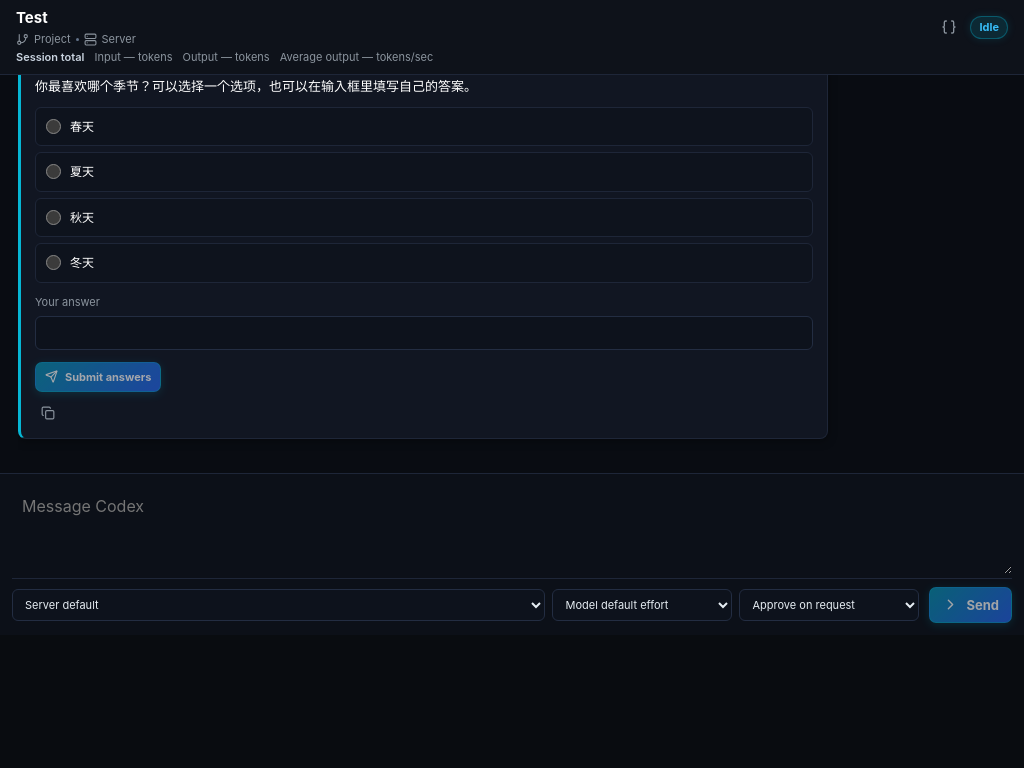
Test: retains a custom answer after a failure and starts a new turn when the session is idle
The image size is (1024, 768).
(page scrolled)
Click the radio button labelled "春天" at (54, 126), box [46, 119, 61, 134]
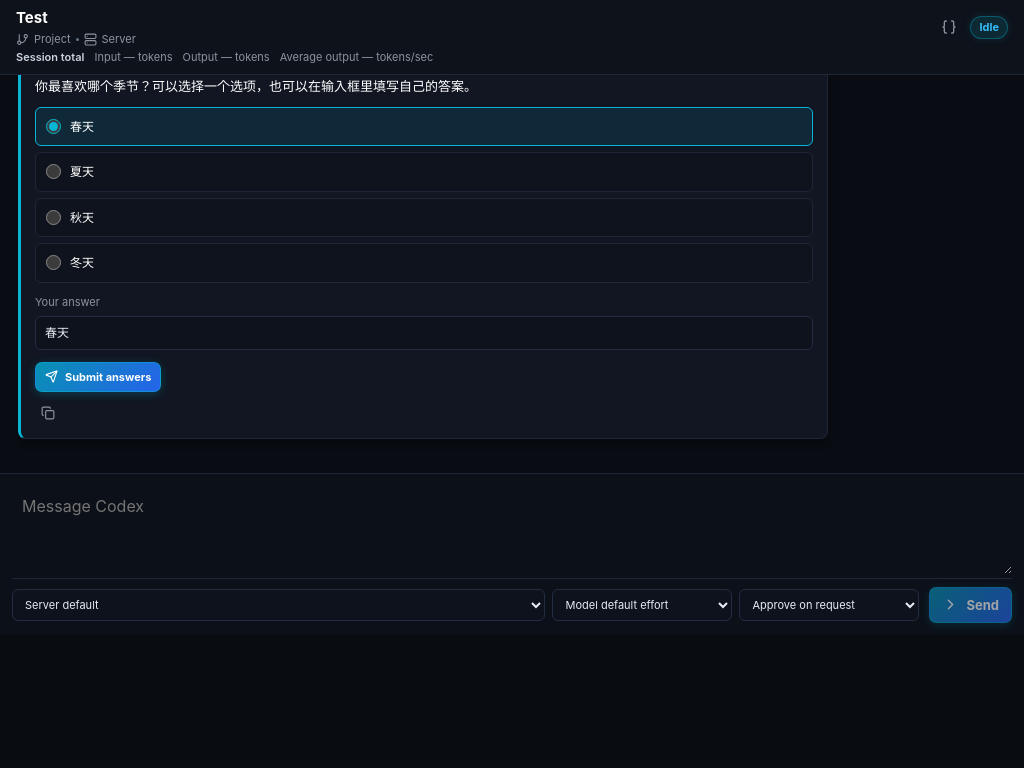
Replace the text in the field labelled "Your answer" with "雨季" at (424, 332), box [35, 316, 813, 350]
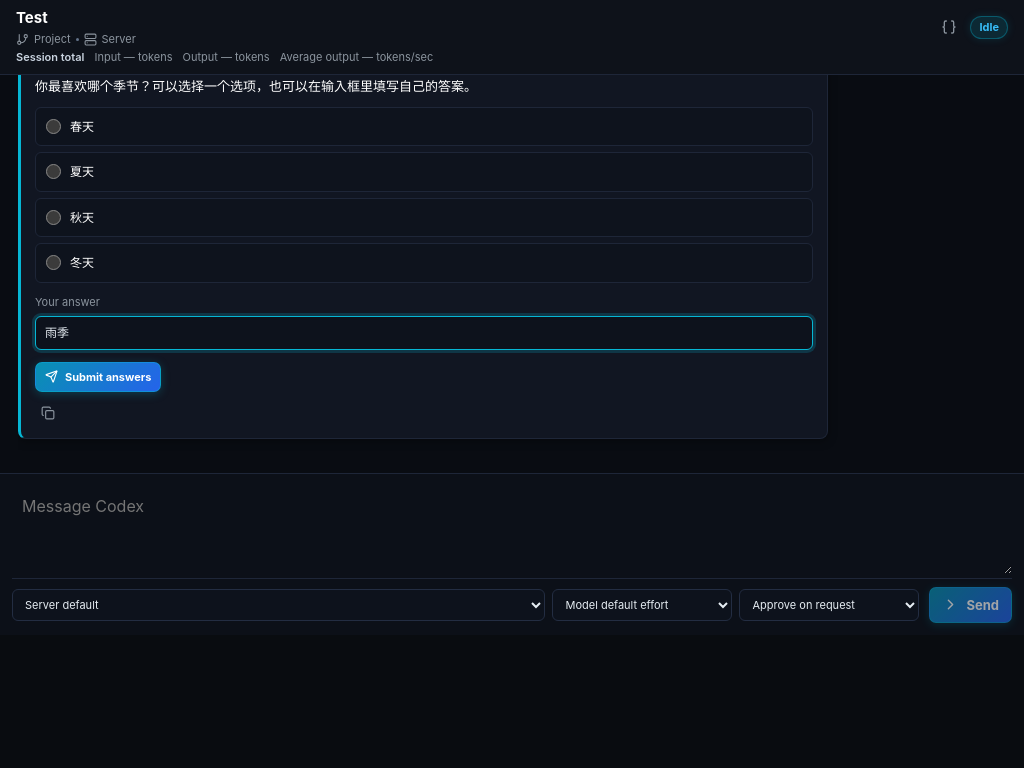
Check: the radio button labelled "春天" is not checked, box [46, 119, 61, 134]
Click the button "Submit answers" at (98, 376), box [35, 362, 161, 392]
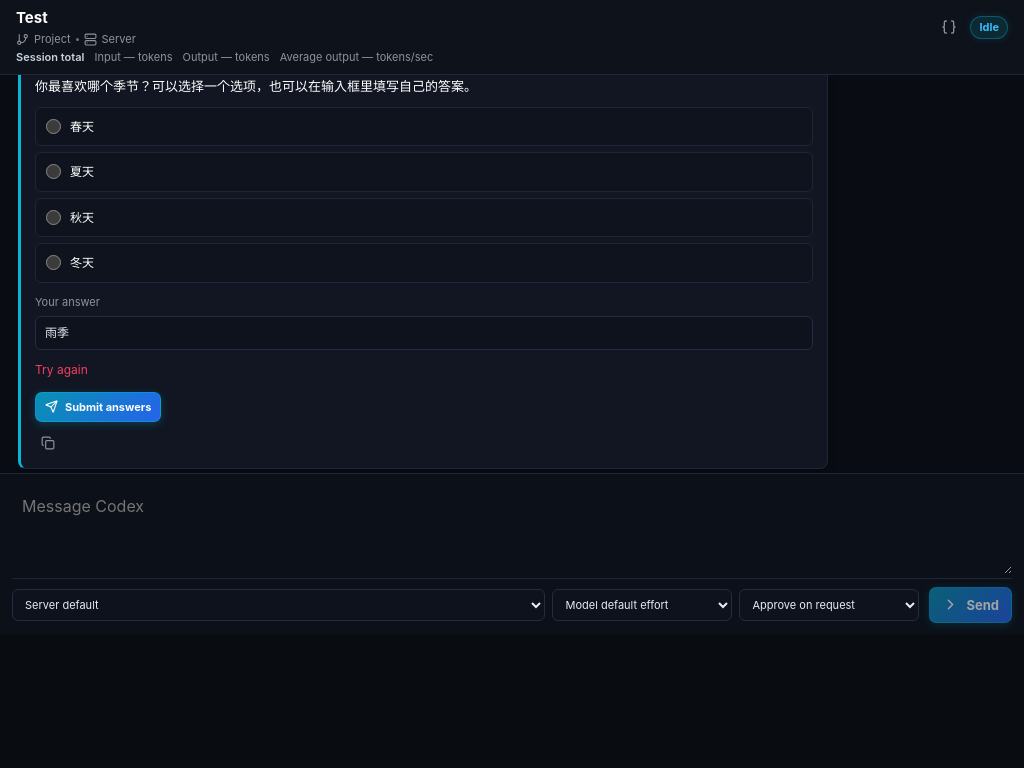
Check: the message reads "Try again", box [35, 362, 88, 376]
Click the button "Submit answers" at (98, 406), box [35, 391, 161, 421]
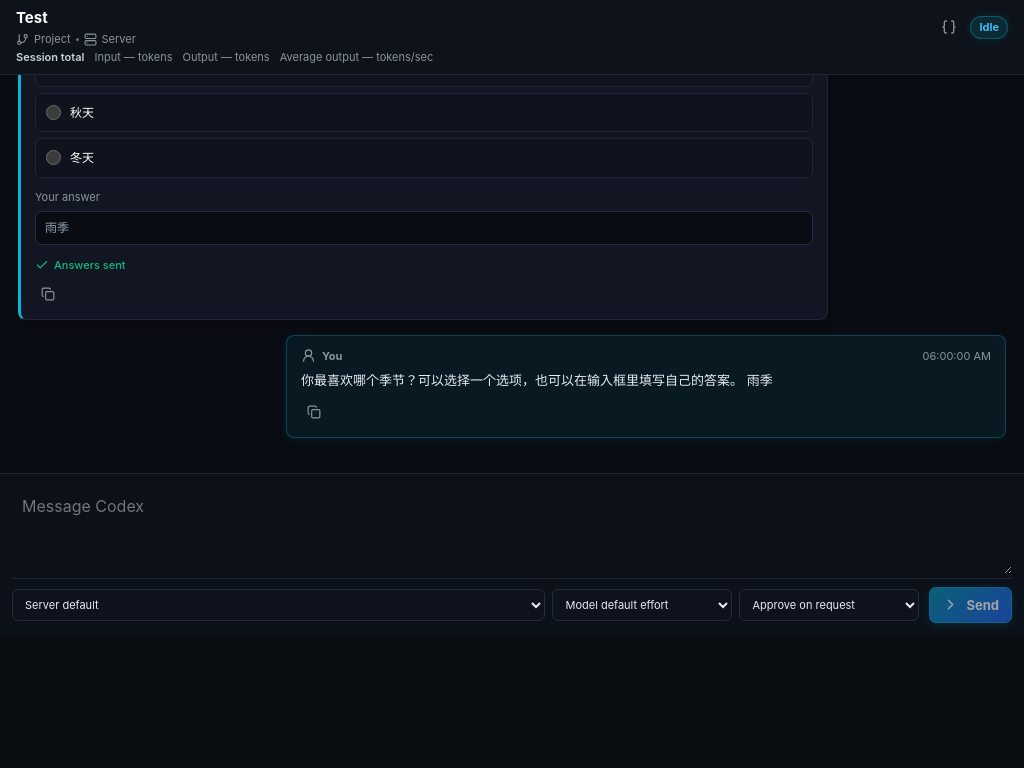
Check: the button "Answers sent" is disabled, box [35, 256, 126, 273]
